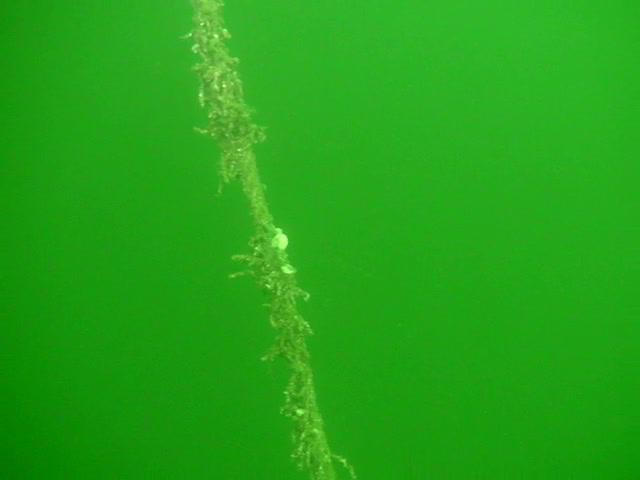rope: (190, 0, 336, 480)
